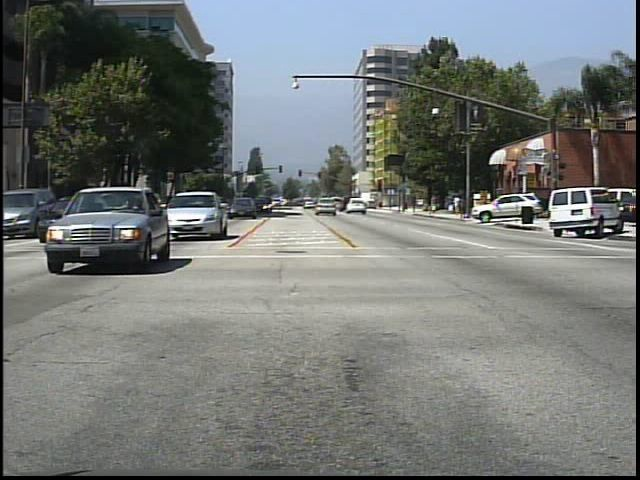person: (428, 192, 441, 215), (453, 192, 464, 219)
